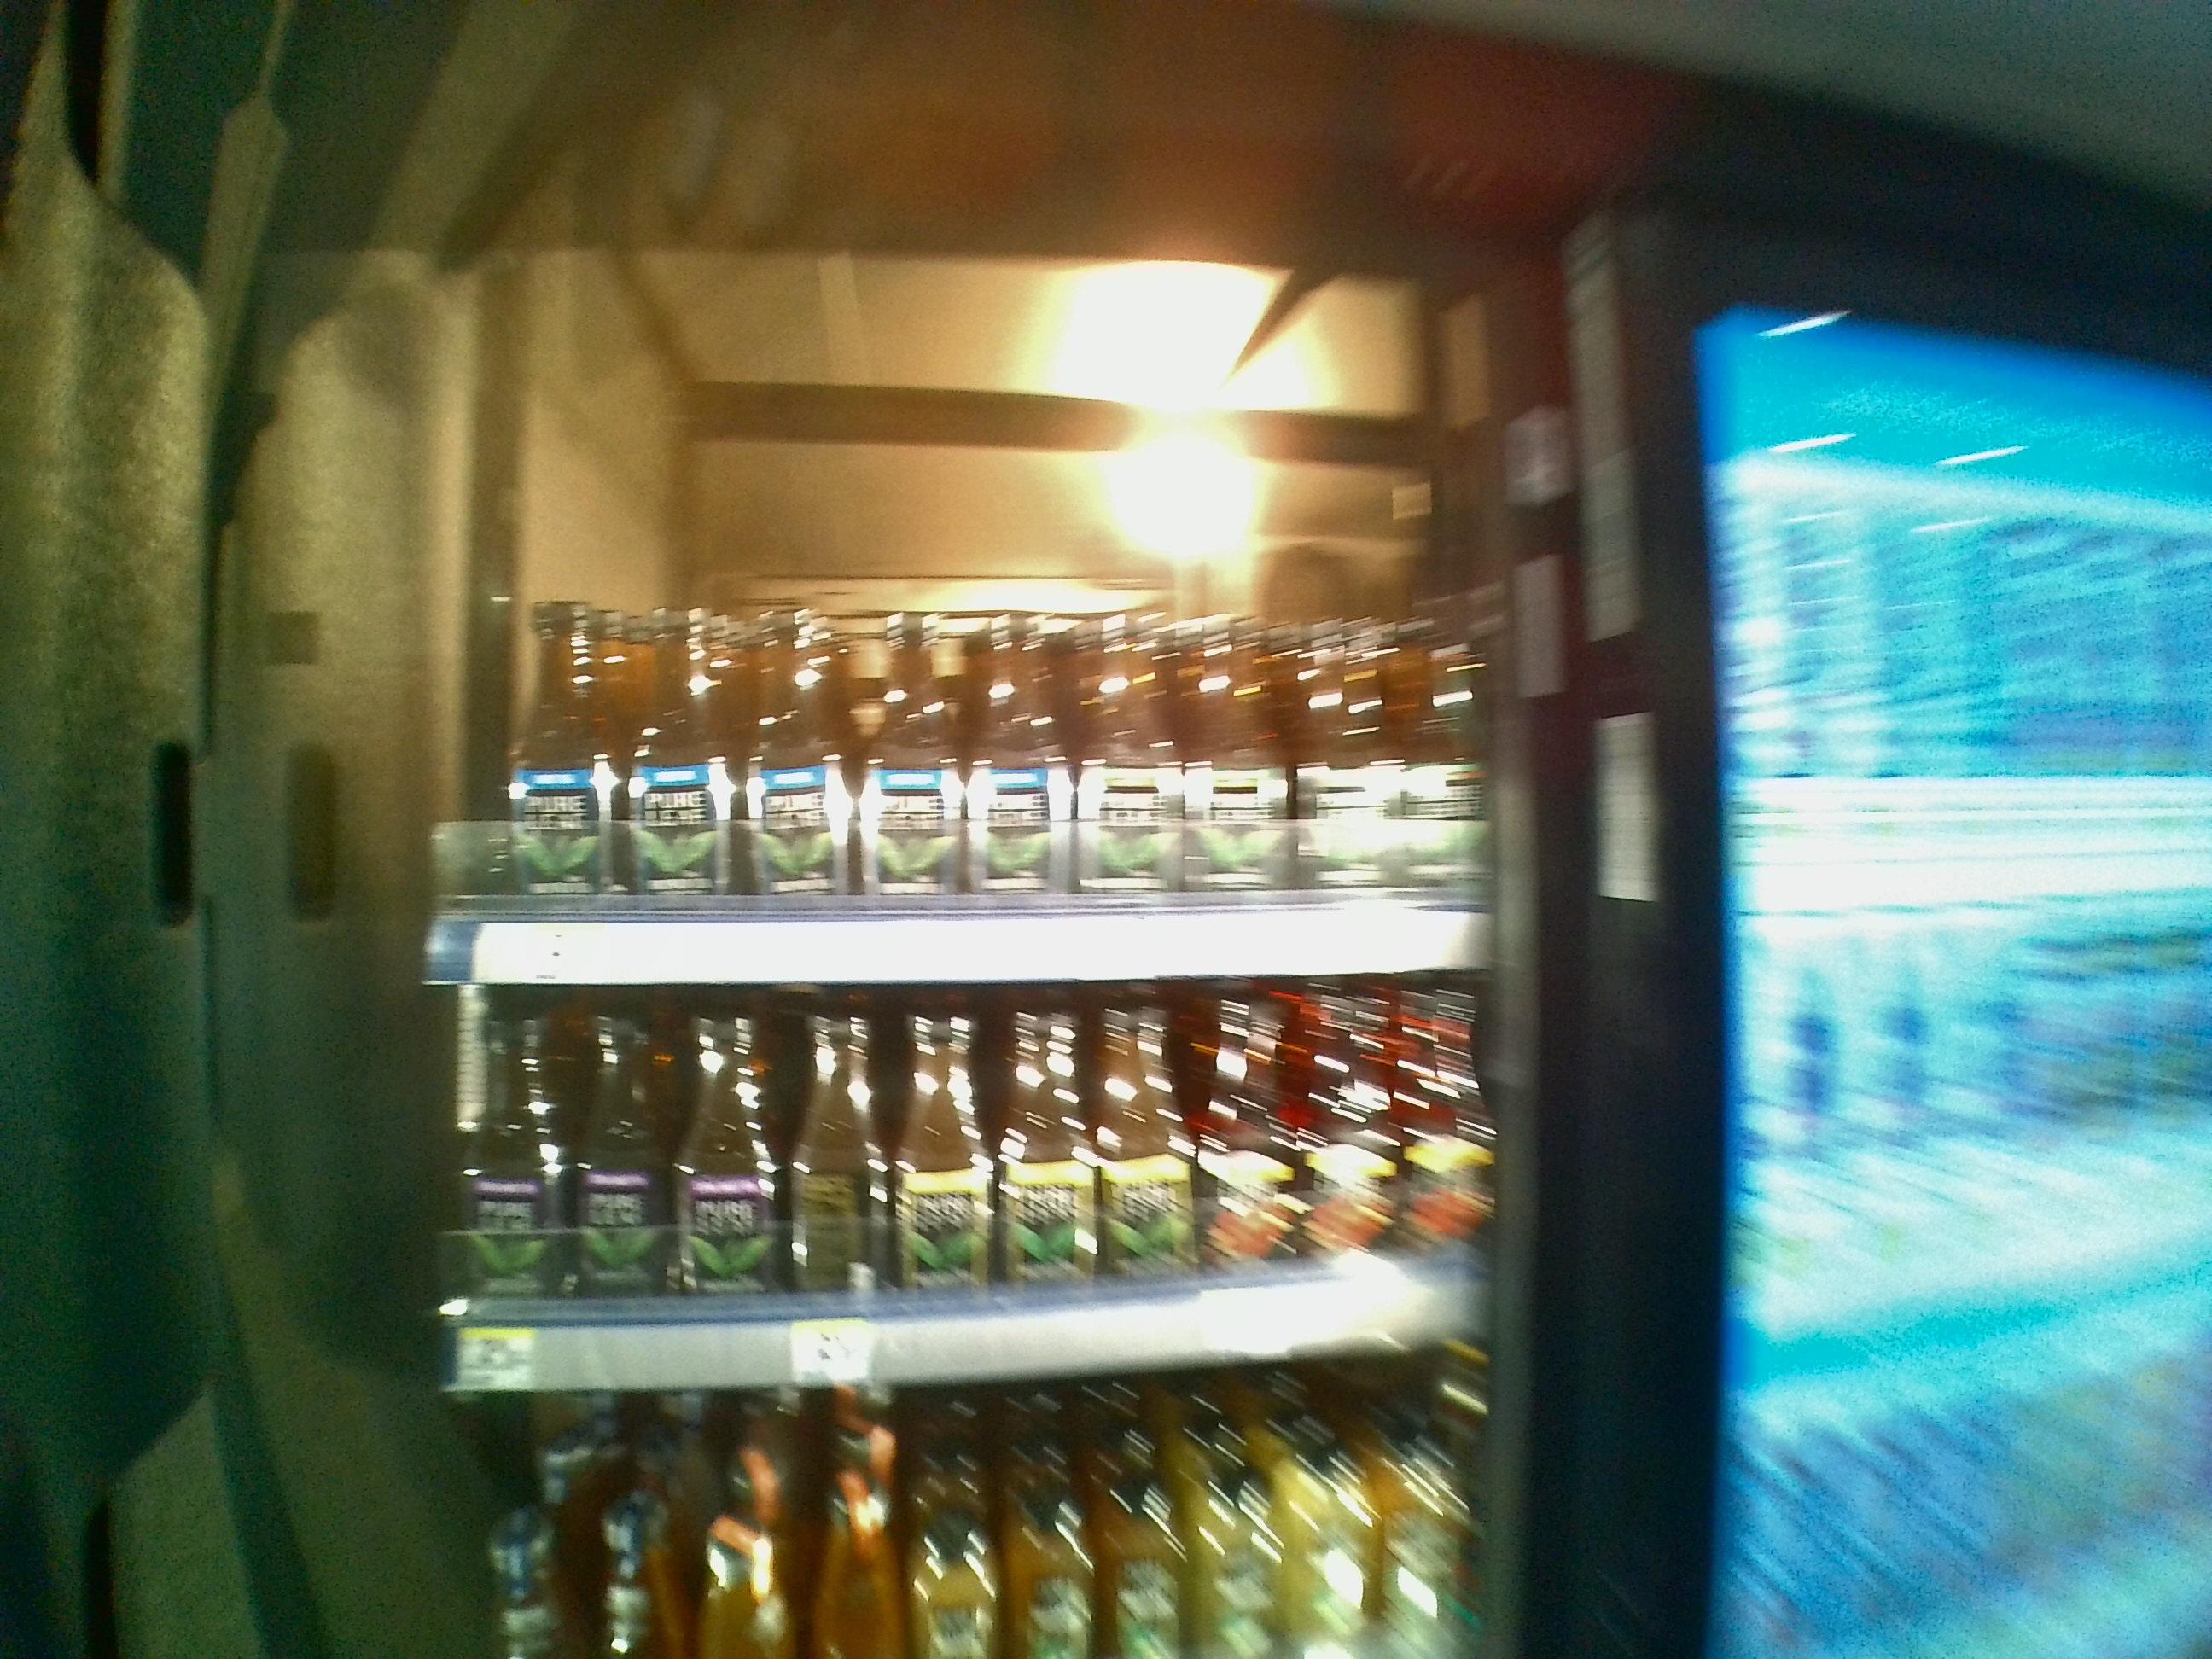shelf: (427, 376, 1496, 979), (427, 995, 1496, 1384)
